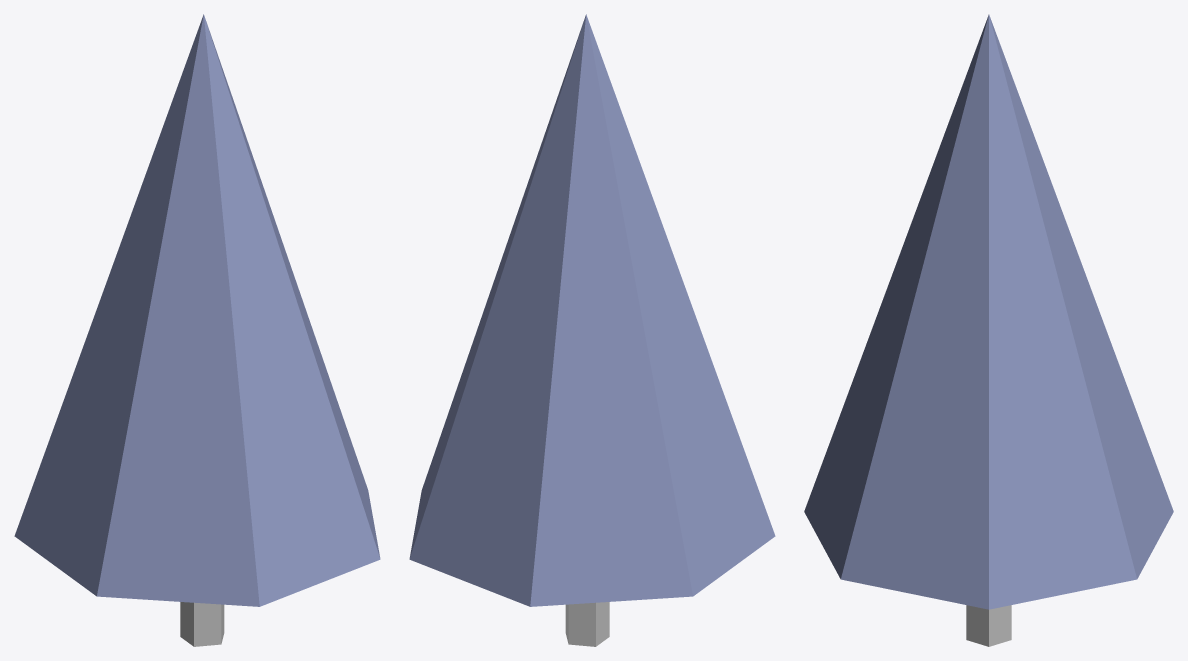
Rendered from fir_low.glb.
The picture shows the model from 3 angles, left to right: view 1: azimuth 30°, elevation 25°; view 2: azimuth 150°, elevation 25°; view 3: azimuth 270°, elevation 25°; orthographic projection.
Parts seen in each view (by area): view 1: fir_low; view 2: fir_low; view 3: fir_low.
Boxes of the visible parts, left/top/right/bottom form: fir_low: left=14, top=14, right=380, bottom=646; fir_low: left=409, top=14, right=775, bottom=646; fir_low: left=804, top=14, right=1173, bottom=646.
Size of the model in its own units: 3.04 by 5.8 by 3.12.
